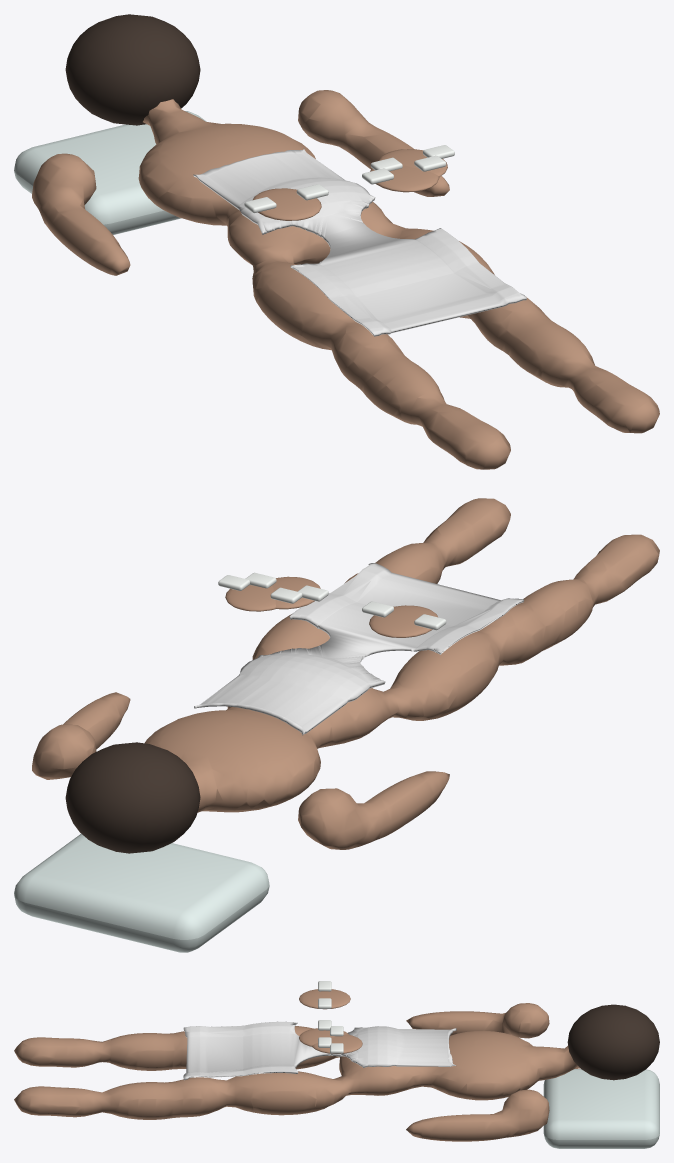
Rendered from patient-femoral-access.glb.
3 views of the same model, one above another, from view 1: azimuth 30°, elevation 25°; view 2: azimuth 150°, elevation 25°; view 3: azimuth 270°, elevation 25° (orthographic). The views are drawn at different scales.
Parts seen in each view (by area): view 1: patient_femoral_access; view 2: patient_femoral_access; view 3: patient_femoral_access.
Boxes of the visible parts, x1=… form: patient_femoral_access: x1=14, y1=14, x2=659, y2=469; patient_femoral_access: x1=14, y1=498, x2=659, y2=952; patient_femoral_access: x1=14, y1=981, x2=659, y2=1148.
Size of the model in its own units: 0.7991 by 0.365 by 1.89.
